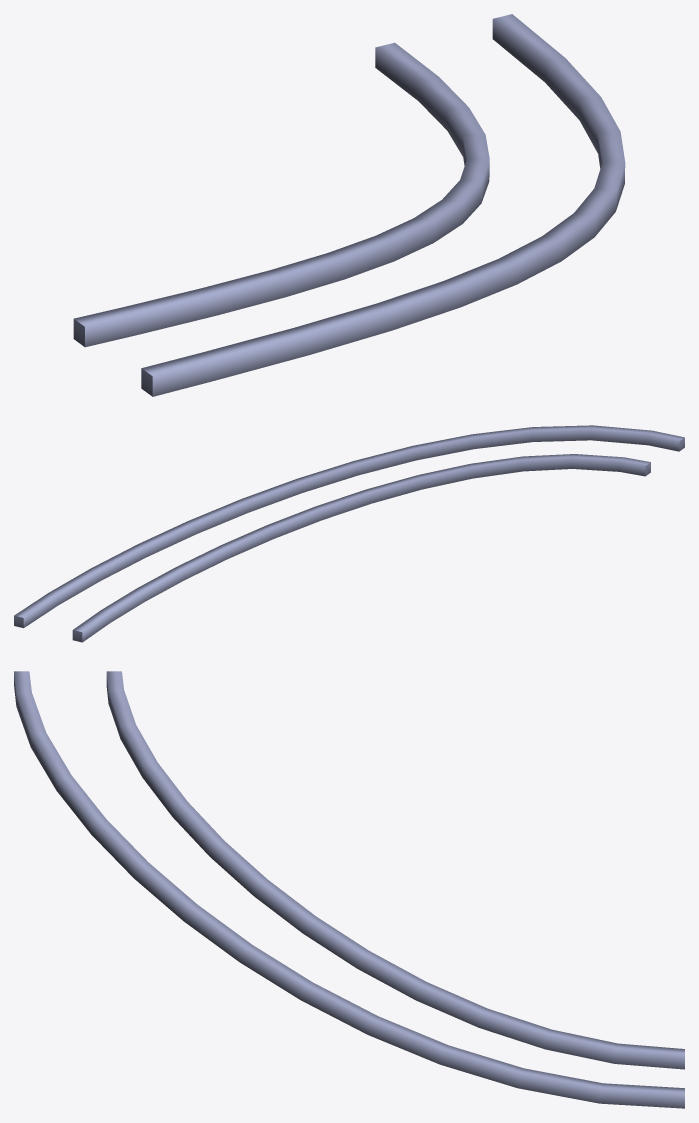
Rendered from railroad-rail-corner-large-ramp.glb.
3 renders of one model, top to bottom at view 1: azimuth 30°, elevation 25°; view 2: azimuth 150°, elevation 25°; view 3: azimuth 270°, elevation 25°, orthographic. The views are drawn at different scales.
Parts seen in each view (by area): view 1: railroad-rail-corner-large-ramp; view 2: railroad-rail-corner-large-ramp; view 3: railroad-rail-corner-large-ramp.
Part boxes in pixels (x1=…): railroad-rail-corner-large-ramp: x1=73, y1=14, x2=625, y2=396; railroad-rail-corner-large-ramp: x1=14, y1=425, x2=684, y2=642; railroad-rail-corner-large-ramp: x1=14, y1=671, x2=684, y2=1108.
Size of the model in its own units: 4.35 by 1.1 by 4.35.
